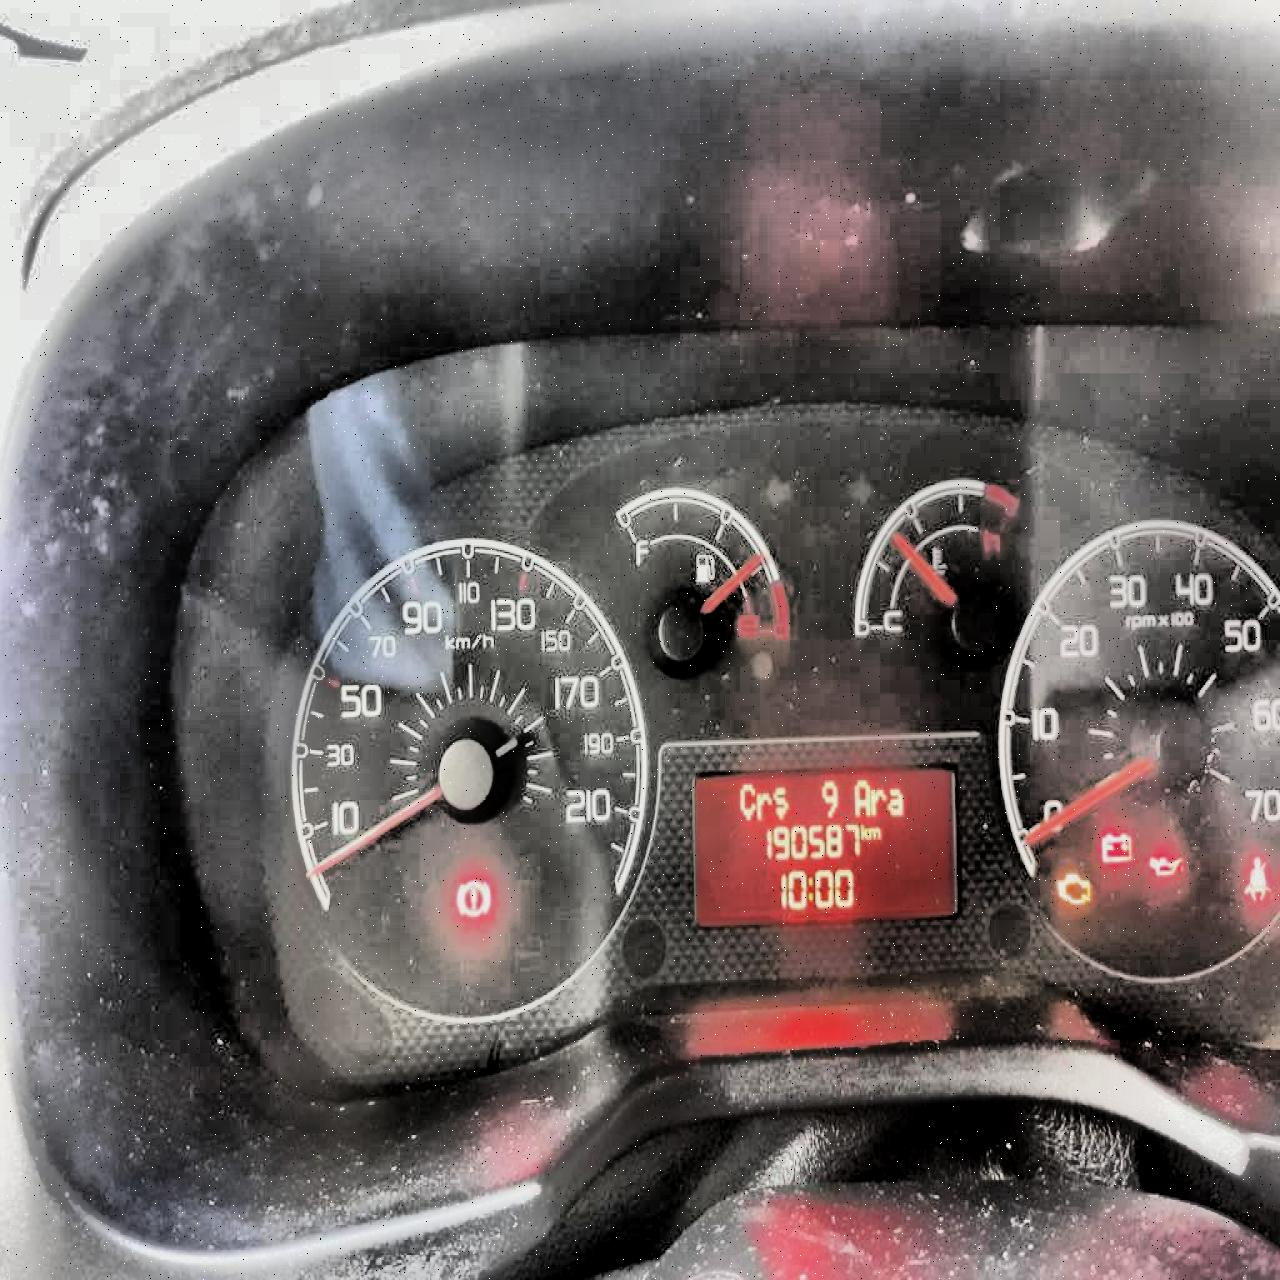0: (835, 866, 855, 906), (813, 866, 832, 908), (787, 869, 805, 910), (789, 822, 806, 858)
1: (778, 870, 787, 908), (765, 825, 772, 860)
5: (808, 822, 824, 858)
7: (844, 821, 858, 857)
8: (825, 822, 840, 857)
9: (821, 776, 838, 817), (772, 824, 789, 858)
X: (852, 777, 870, 816), (738, 782, 755, 821), (771, 784, 789, 818), (869, 787, 886, 816), (886, 785, 903, 815), (755, 790, 771, 818), (867, 823, 881, 839), (806, 871, 812, 901), (860, 819, 867, 838)
odometer: (686, 758, 966, 932)
